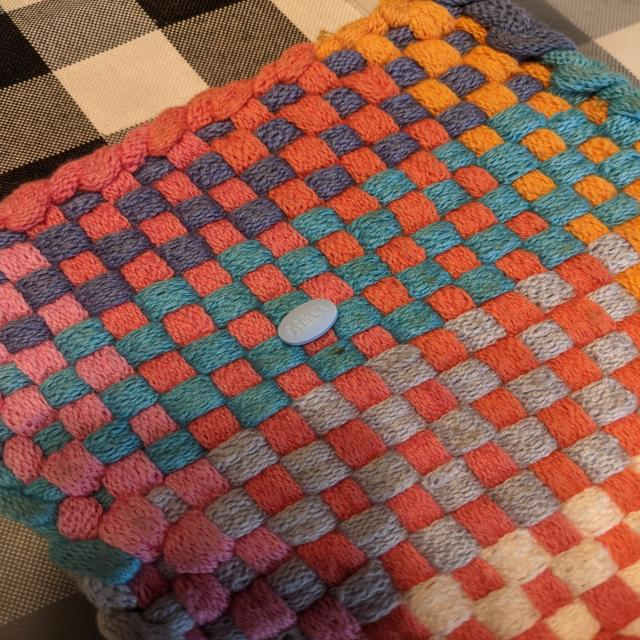non-organic waste: (276, 298, 340, 346)
